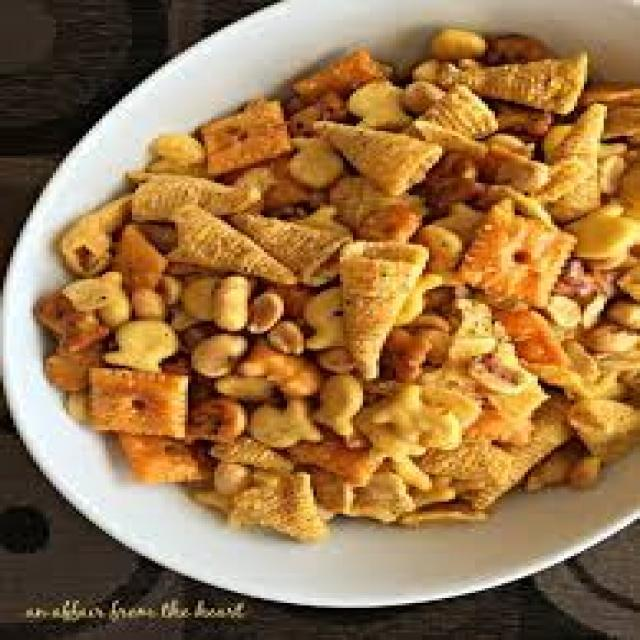Salatini: (76, 25, 637, 539)
